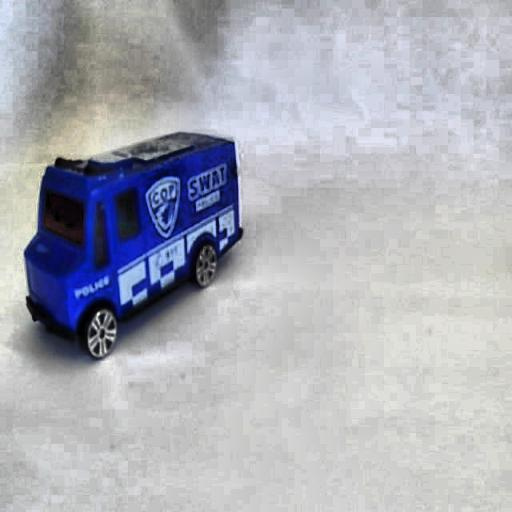police car: (25, 123, 238, 354)
